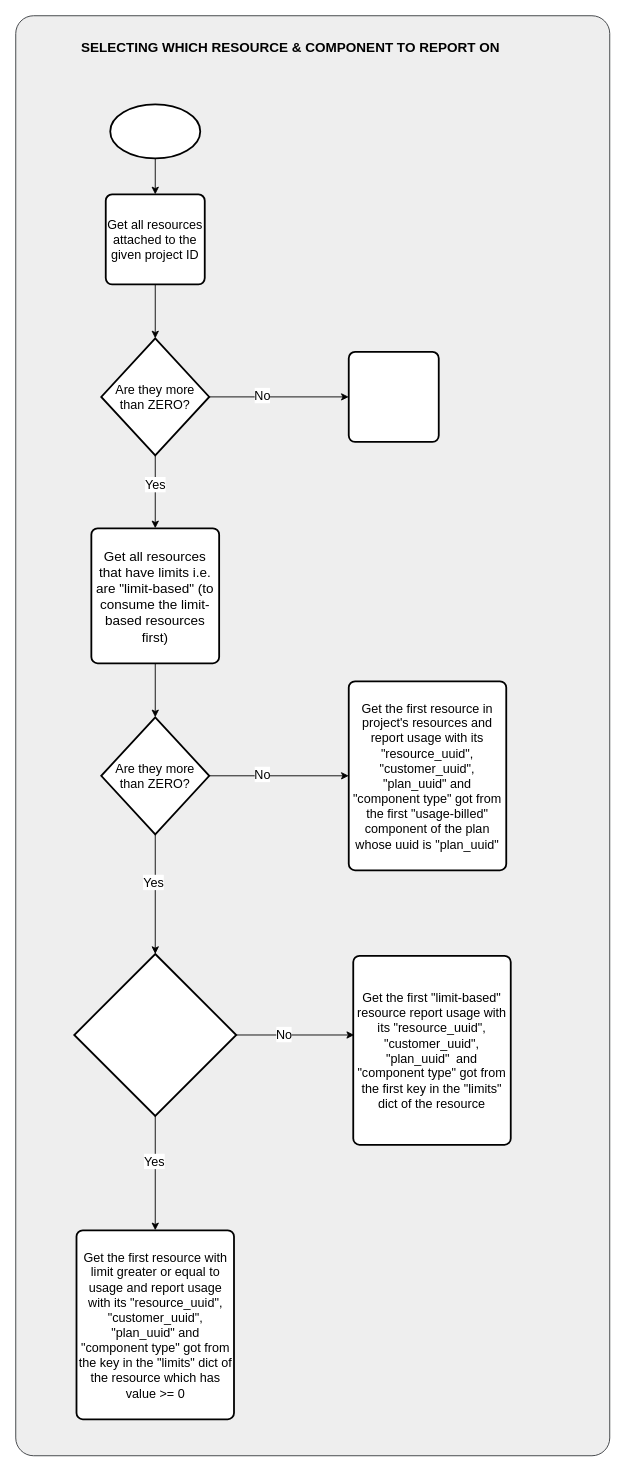
This 626x1472 diagram has some shape labels left out. The shapes that lost their labels are listed below. From the top down, each one's centre as x and y in pixels, then its label:
At (x=155, y=131): "START".
At (x=393, y=396): "Raise Resource-not-found error".
At (x=155, y=1034): "Is any of them with a limit greater or equal to the usage amount to be reported?".
